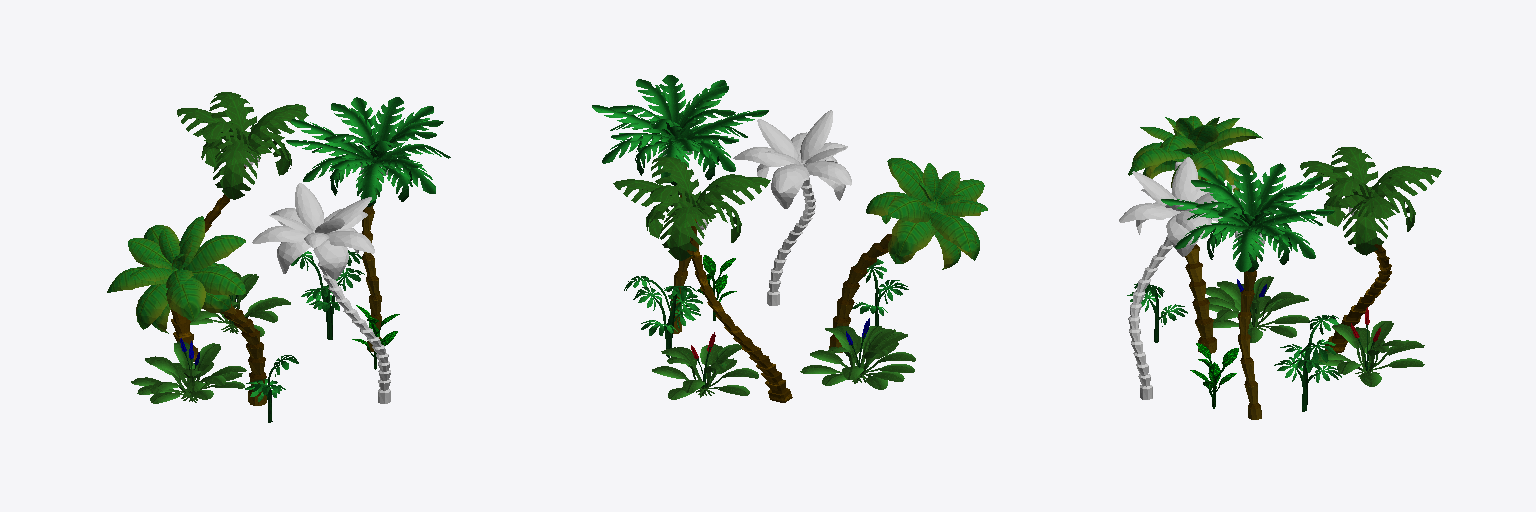
The picture shows the model from 3 angles: view 1: azimuth 30°, elevation 25°; view 2: azimuth 150°, elevation 25°; view 3: azimuth 270°, elevation 25°; orthographic projection.
Visible parts, largest first — view 1: Cube.012_Cube.002, Cube.010_Cube.004, Icosphere.030_Icosphere.005_Icosphere.030_Icosphere.006, Cube.011_Cube.002, Plane.003, Plane.004, Sphere.005, Sphere.006; view 2: Cube.012_Cube.002, Icosphere.030_Icosphere.005_Icosphere.030_Icosphere.006, Cube.010_Cube.004, Cube.011_Cube.002, Plane.003, Plane.004, Sphere.005, Sphere.006, Sphere.004; view 3: Cube.010_Cube.004, Icosphere.030_Icosphere.005_Icosphere.030_Icosphere.006, Cube.012_Cube.002, Cube.011_Cube.002, Plane.003, Plane.004, Sphere.005, Sphere.004, Sphere.006.
Boxes of the visible parts, x1=… form: Cube.012_Cube.002: x1=107, y1=216, x2=266, y2=405; Cube.010_Cube.004: x1=286, y1=97, x2=450, y2=351; Icosphere.030_Icosphere.005_Icosphere.030_Icosphere.006: x1=171, y1=92, x2=308, y2=361; Cube.011_Cube.002: x1=252, y1=183, x2=390, y2=403; Plane.003: x1=131, y1=338, x2=246, y2=403; Plane.004: x1=187, y1=272, x2=290, y2=336; Sphere.005: x1=291, y1=250, x2=364, y2=339; Sphere.006: x1=245, y1=355, x2=298, y2=422; Cube.012_Cube.002: x1=829, y1=158, x2=987, y2=352; Icosphere.030_Icosphere.005_Icosphere.030_Icosphere.006: x1=613, y1=157, x2=792, y2=402; Cube.010_Cube.004: x1=592, y1=75, x2=768, y2=333; Cube.011_Cube.002: x1=733, y1=110, x2=851, y2=305; Plane.003: x1=800, y1=318, x2=915, y2=389; Plane.004: x1=652, y1=332, x2=758, y2=399; Sphere.005: x1=624, y1=276, x2=702, y2=357; Sphere.006: x1=852, y1=259, x2=908, y2=326; Sphere.004: x1=697, y1=255, x2=736, y2=320; Cube.010_Cube.004: x1=1161, y1=163, x2=1334, y2=419; Icosphere.030_Icosphere.005_Icosphere.030_Icosphere.006: x1=1300, y1=147, x2=1441, y2=352; Cube.012_Cube.002: x1=1128, y1=116, x2=1262, y2=353; Cube.011_Cube.002: x1=1119, y1=157, x2=1245, y2=399; Plane.003: x1=1206, y1=276, x2=1309, y2=342; Plane.004: x1=1311, y1=307, x2=1424, y2=386; Sphere.005: x1=1274, y1=315, x2=1341, y2=411; Sphere.004: x1=1190, y1=343, x2=1238, y2=408; Sphere.006: x1=1127, y1=283, x2=1187, y2=342.
Bounding box in the file's own units: 21.12 × 13.39 × 16.75.
16 materials, 11 textured.